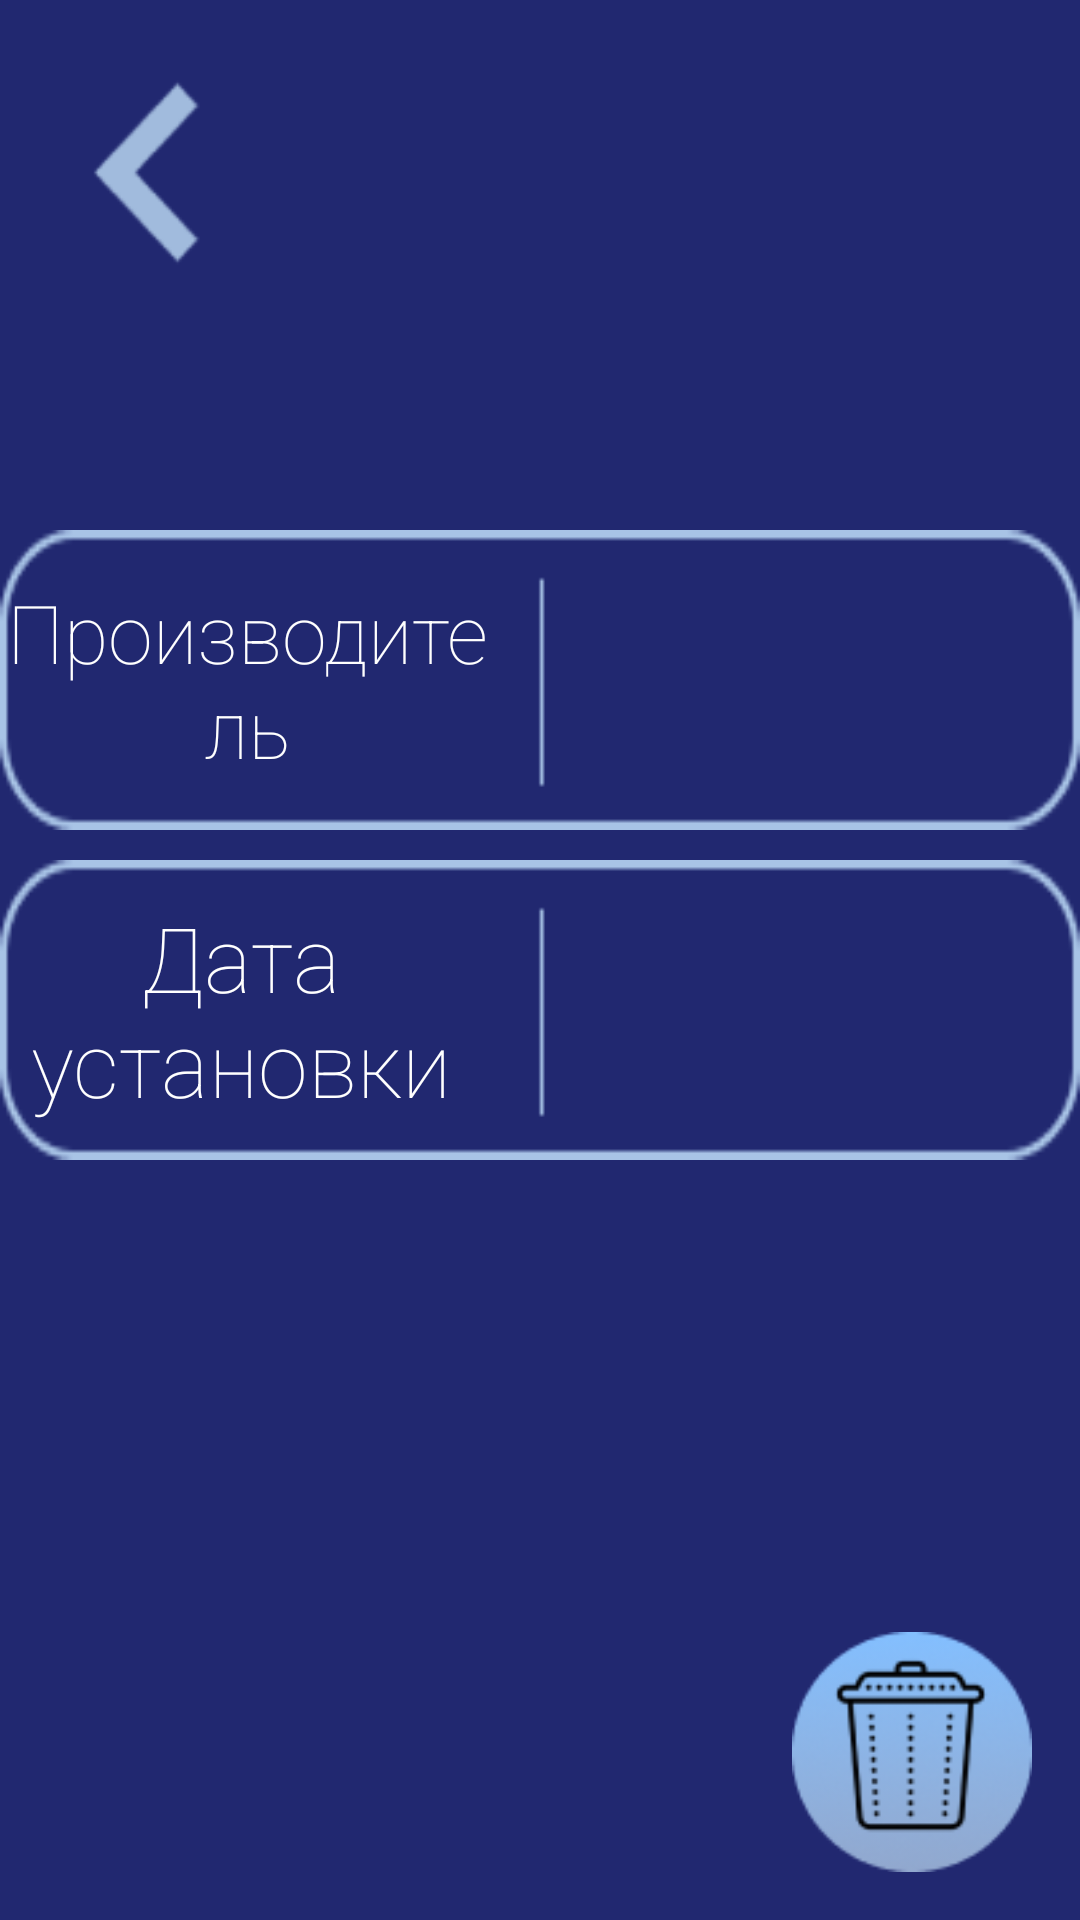

Named icons in this screenshot (1080px x 1920px) and their bounding boxes, (x1, y1, x2, y2):
back: (94, 83, 198, 262)
delete: (792, 1632, 1032, 1872)
